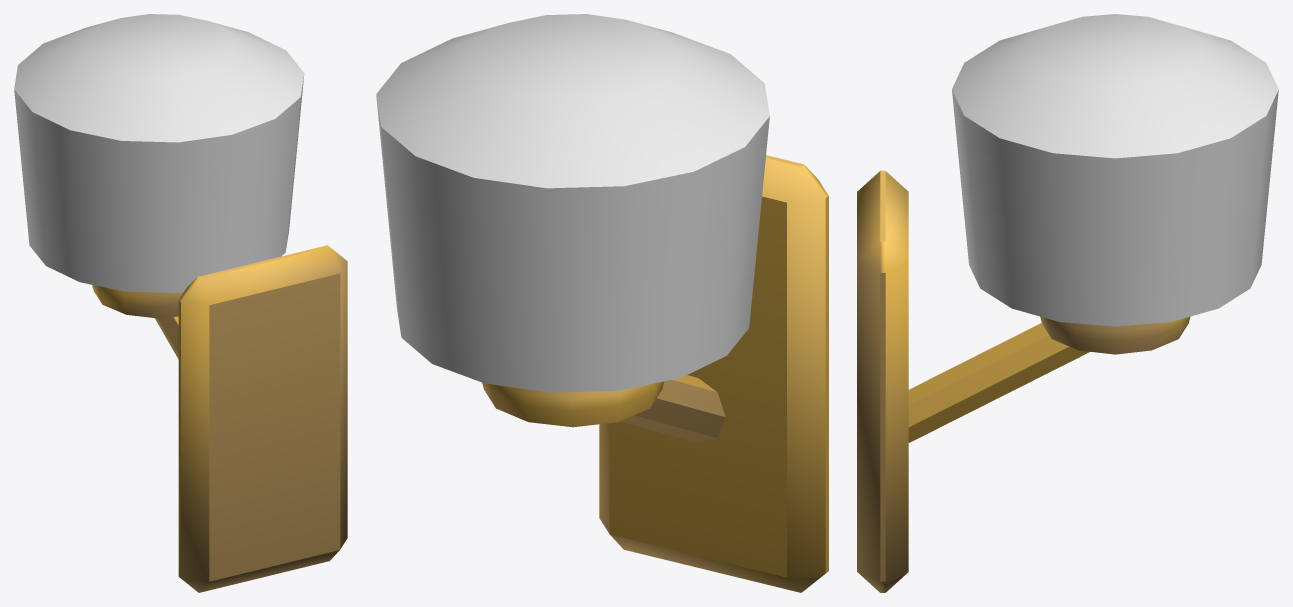
Rendered from WallSconce.fbx.
3 views of the same model, side by side, from view 1: azimuth 30°, elevation 25°; view 2: azimuth 150°, elevation 25°; view 3: azimuth 270°, elevation 25° (orthographic). The views are drawn at different scales.
Visible parts, largest first — view 1: SM_Prop_WallSconce_Shade, SM_Prop_WallSconce; view 2: SM_Prop_WallSconce_Shade, SM_Prop_WallSconce; view 3: SM_Prop_WallSconce_Shade, SM_Prop_WallSconce.
Boxes of the visible parts, box(x1,y1,x2,y2) form: SM_Prop_WallSconce_Shade: box(14, 14, 304, 292); SM_Prop_WallSconce: box(92, 245, 347, 592); SM_Prop_WallSconce_Shade: box(376, 14, 769, 392); SM_Prop_WallSconce: box(482, 155, 828, 592); SM_Prop_WallSconce_Shade: box(952, 14, 1278, 326); SM_Prop_WallSconce: box(857, 170, 1190, 592).
Size of the model in its own units: 0.76 by 1.31 by 0.98.
